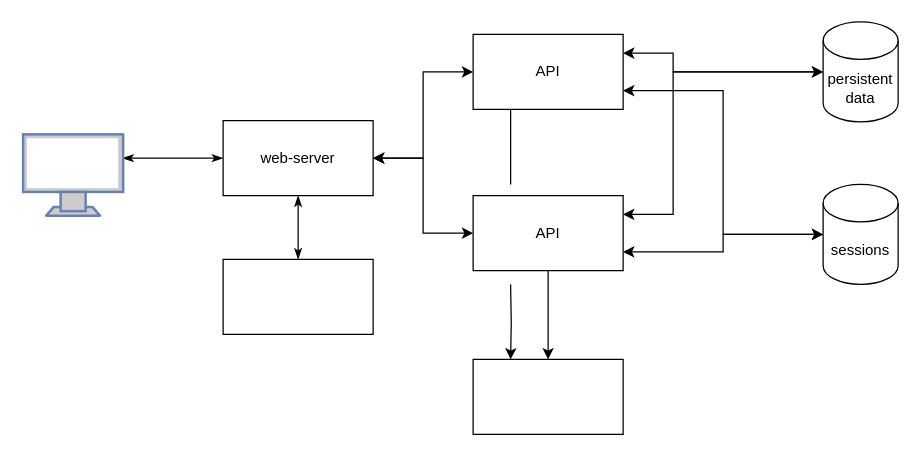
This 920x456 diagram has some shape labels left out. The shapes that lost their labels are listed below. From the top down, each one's box as (x1, y1, x2, y2) in pixels, then its label:
(21, 132, 124, 216): client
(222, 258, 373, 334): static files (html, css, js, img)
(472, 358, 623, 434): Metrics
